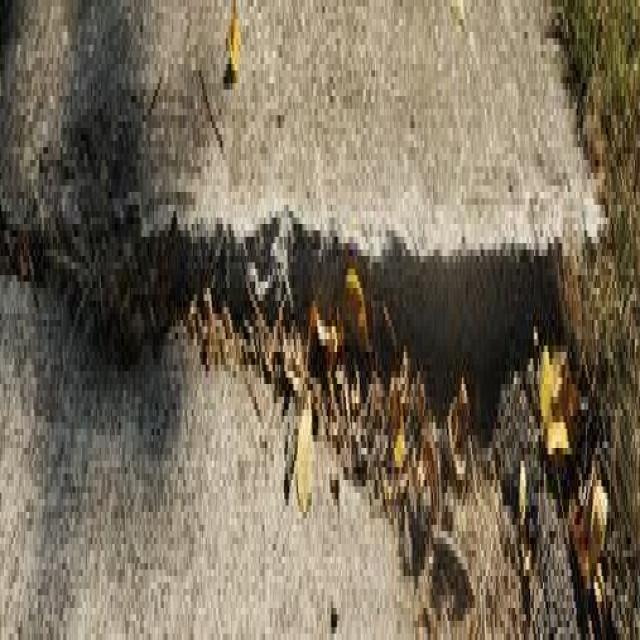bump: (19, 76, 604, 526)
